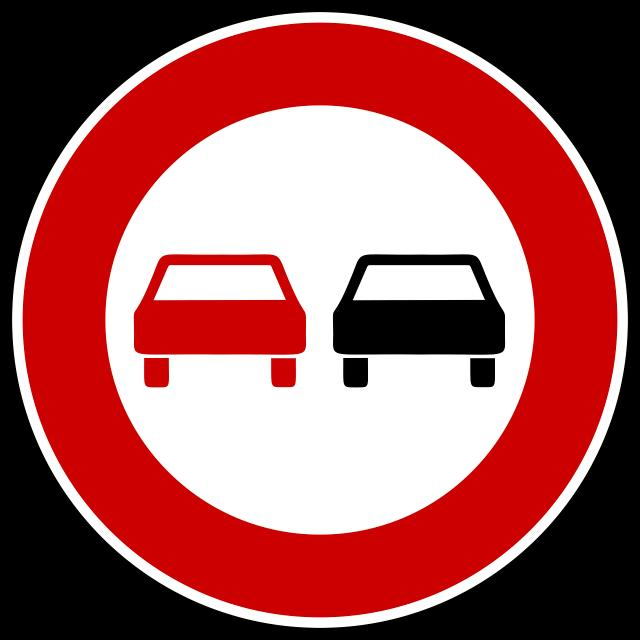no overtaking: (1, 0, 640, 633)
